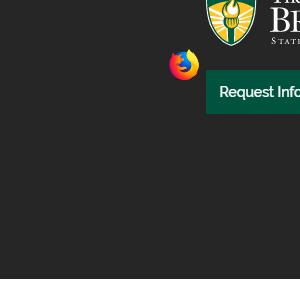firefox: (168, 48, 199, 81)
